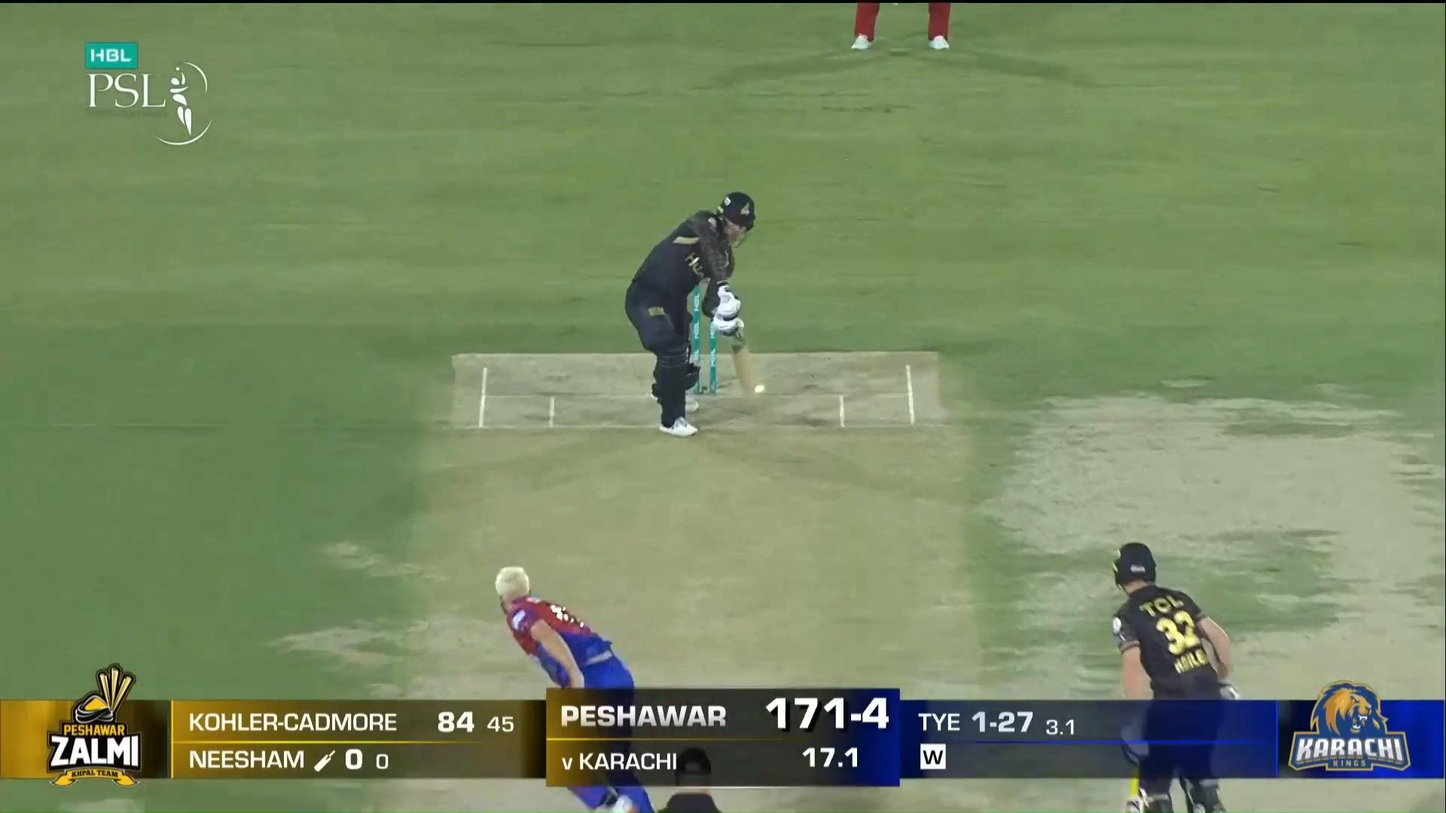batsman: (624, 190, 765, 438)
